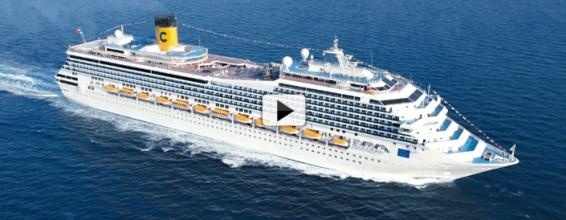youlun: (51, 12, 521, 182)
